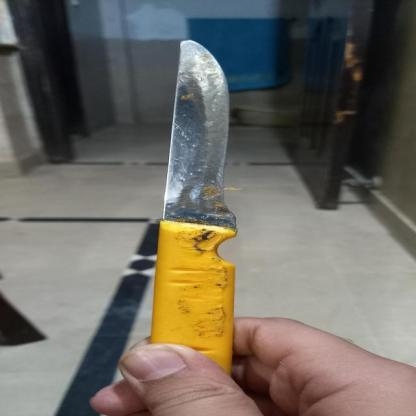Knife: (154, 39, 231, 374)
